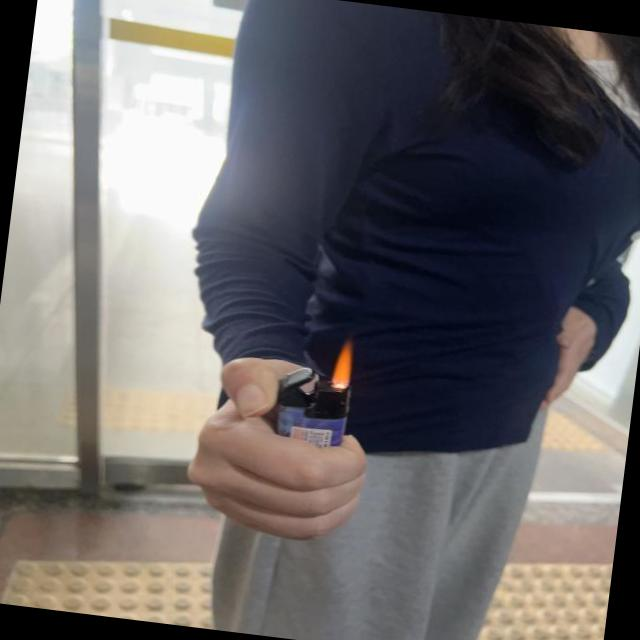Fire: (331, 340, 355, 386)
